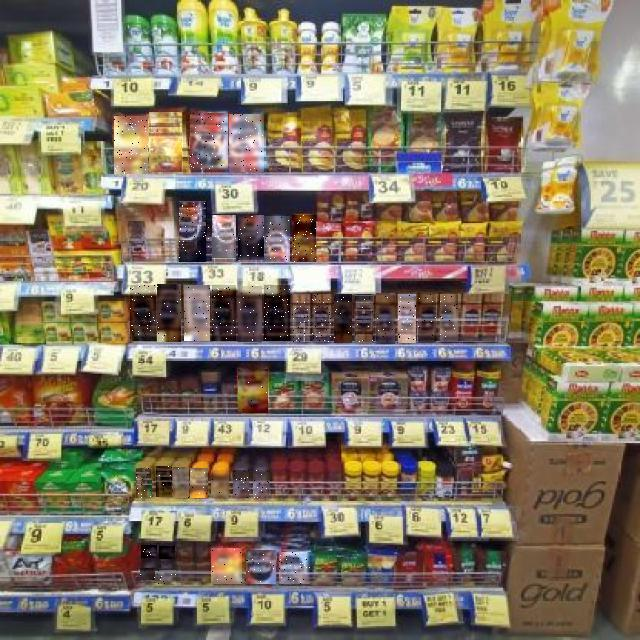Coffee: (190, 114, 228, 172), (150, 113, 186, 173), (230, 114, 266, 172), (115, 117, 149, 175), (180, 201, 210, 262), (184, 285, 210, 341), (130, 285, 156, 341), (264, 285, 290, 341), (157, 284, 181, 342), (212, 285, 236, 341), (238, 286, 262, 342), (238, 369, 268, 413), (238, 216, 264, 262), (264, 216, 290, 262), (212, 548, 244, 584), (292, 215, 316, 262), (212, 216, 236, 262), (280, 553, 312, 585), (246, 551, 276, 585), (376, 293, 395, 344), (312, 295, 331, 343), (398, 294, 416, 343), (418, 293, 436, 342), (355, 294, 373, 343), (334, 294, 352, 343), (440, 295, 458, 343), (292, 295, 310, 343), (190, 468, 208, 498), (211, 470, 229, 498), (156, 466, 172, 497), (173, 467, 189, 498), (136, 468, 152, 498), (233, 470, 249, 498), (253, 470, 269, 498), (158, 570, 176, 584), (141, 545, 157, 558), (159, 546, 175, 559), (140, 568, 155, 580)
